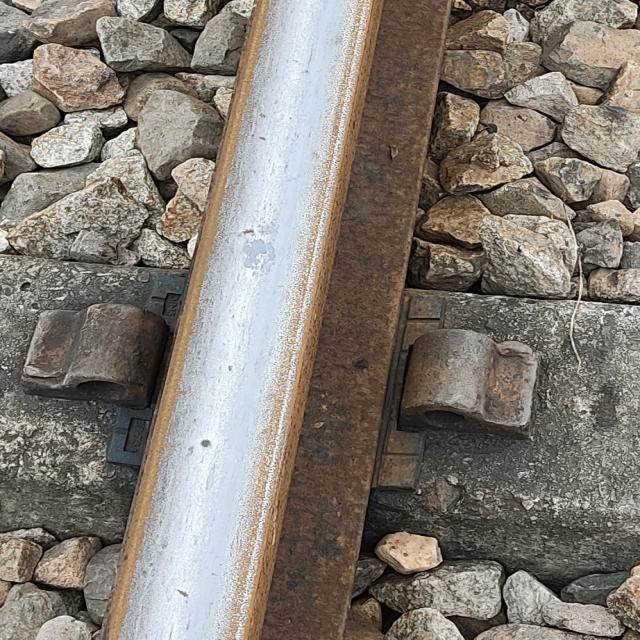Missing Fastener: (385, 330, 587, 444), (21, 283, 161, 412)
